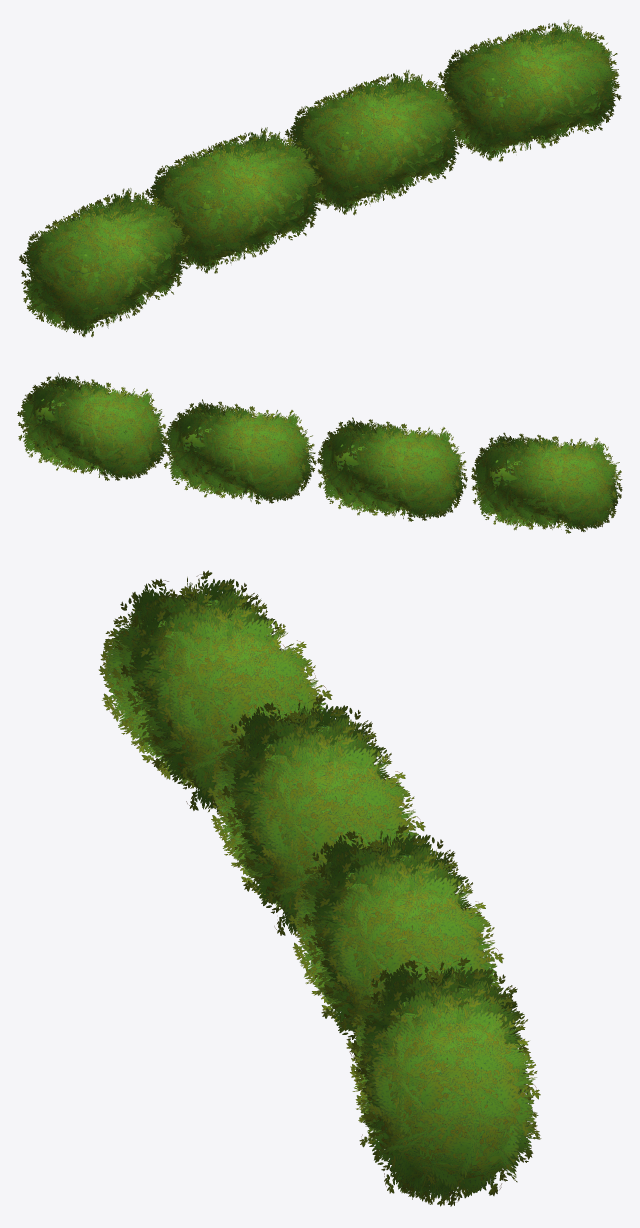
The model's file is SM_Bush06_Splines_39.fbx.
The picture shows the model from 3 angles, top to bottom: view 1: azimuth 30°, elevation 25°; view 2: azimuth 150°, elevation 25°; view 3: azimuth 270°, elevation 25°; orthographic projection. The views are drawn at different scales.
Parts seen in each view (by area): view 1: SM_Bush06_Splines_39_LOD0; view 2: SM_Bush06_Splines_39_LOD0; view 3: SM_Bush06_Splines_39_LOD0.
Part boxes in pixels (x1,y1,x2,y2): SM_Bush06_Splines_39_LOD0: [19, 20, 621, 337]; SM_Bush06_Splines_39_LOD0: [17, 372, 622, 533]; SM_Bush06_Splines_39_LOD0: [98, 570, 541, 1206].
Size of the model in its own units: 1029 by 377 by 166.
